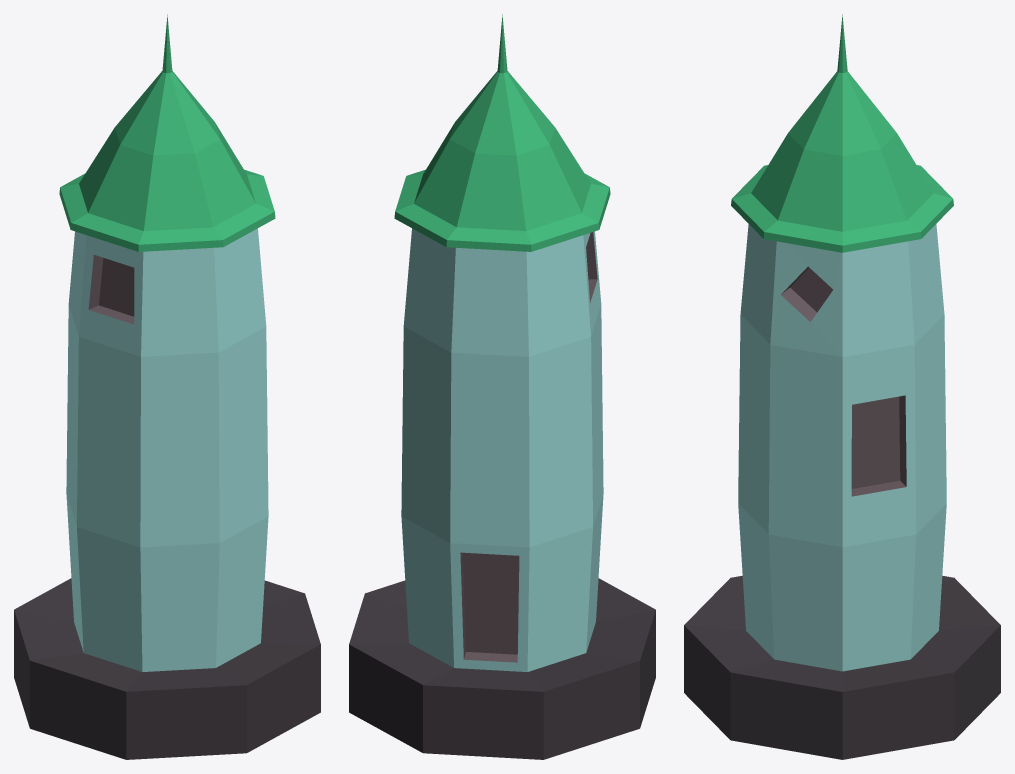
File: house1.fbx
The picture shows the model from 3 angles, left to right: view 1: azimuth 30°, elevation 25°; view 2: azimuth 150°, elevation 25°; view 3: azimuth 270°, elevation 25°; orthographic projection.
Visible parts, largest first — view 1: mid_building.001; view 2: mid_building.001; view 3: mid_building.001.
Boxes of the visible parts, x1,y1,x2,y2 form: mid_building.001: (14,14,320,759); mid_building.001: (349,14,655,759); mid_building.001: (684,14,1000,759).
Size of the model in its own units: 4031 by 9534 by 4031.
